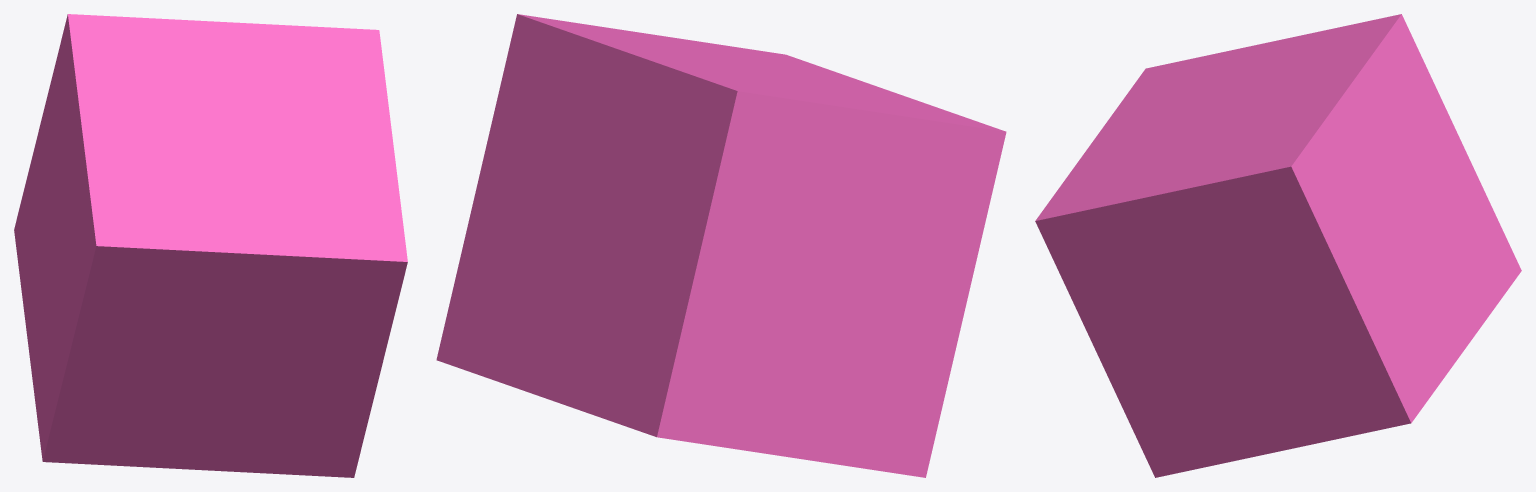
The model's file is pattern1.dae.
3 views of the same model, side by side, from view 1: azimuth 30°, elevation 25°; view 2: azimuth 150°, elevation 25°; view 3: azimuth 270°, elevation 25° (orthographic). The views are drawn at different scales.
Parts seen in each view (by area): view 1: Cube; view 2: Cube; view 3: Cube.
Part boxes in pixels (<box>): Cube: <box>14,14,407,477</box>; Cube: <box>436,14,1006,477</box>; Cube: <box>1035,14,1521,477</box>.
Size of the model in its own units: 4.02 by 4.26 by 4.81.
